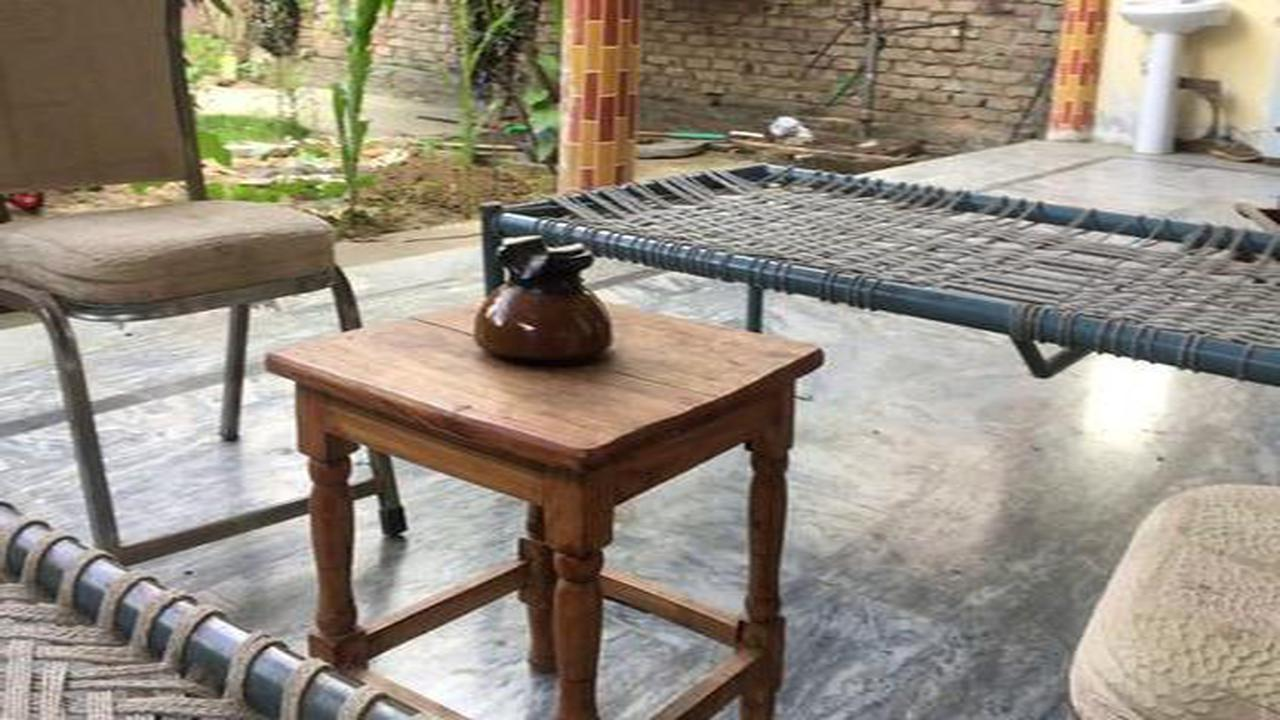insulator_pin: (459, 222, 634, 369)
